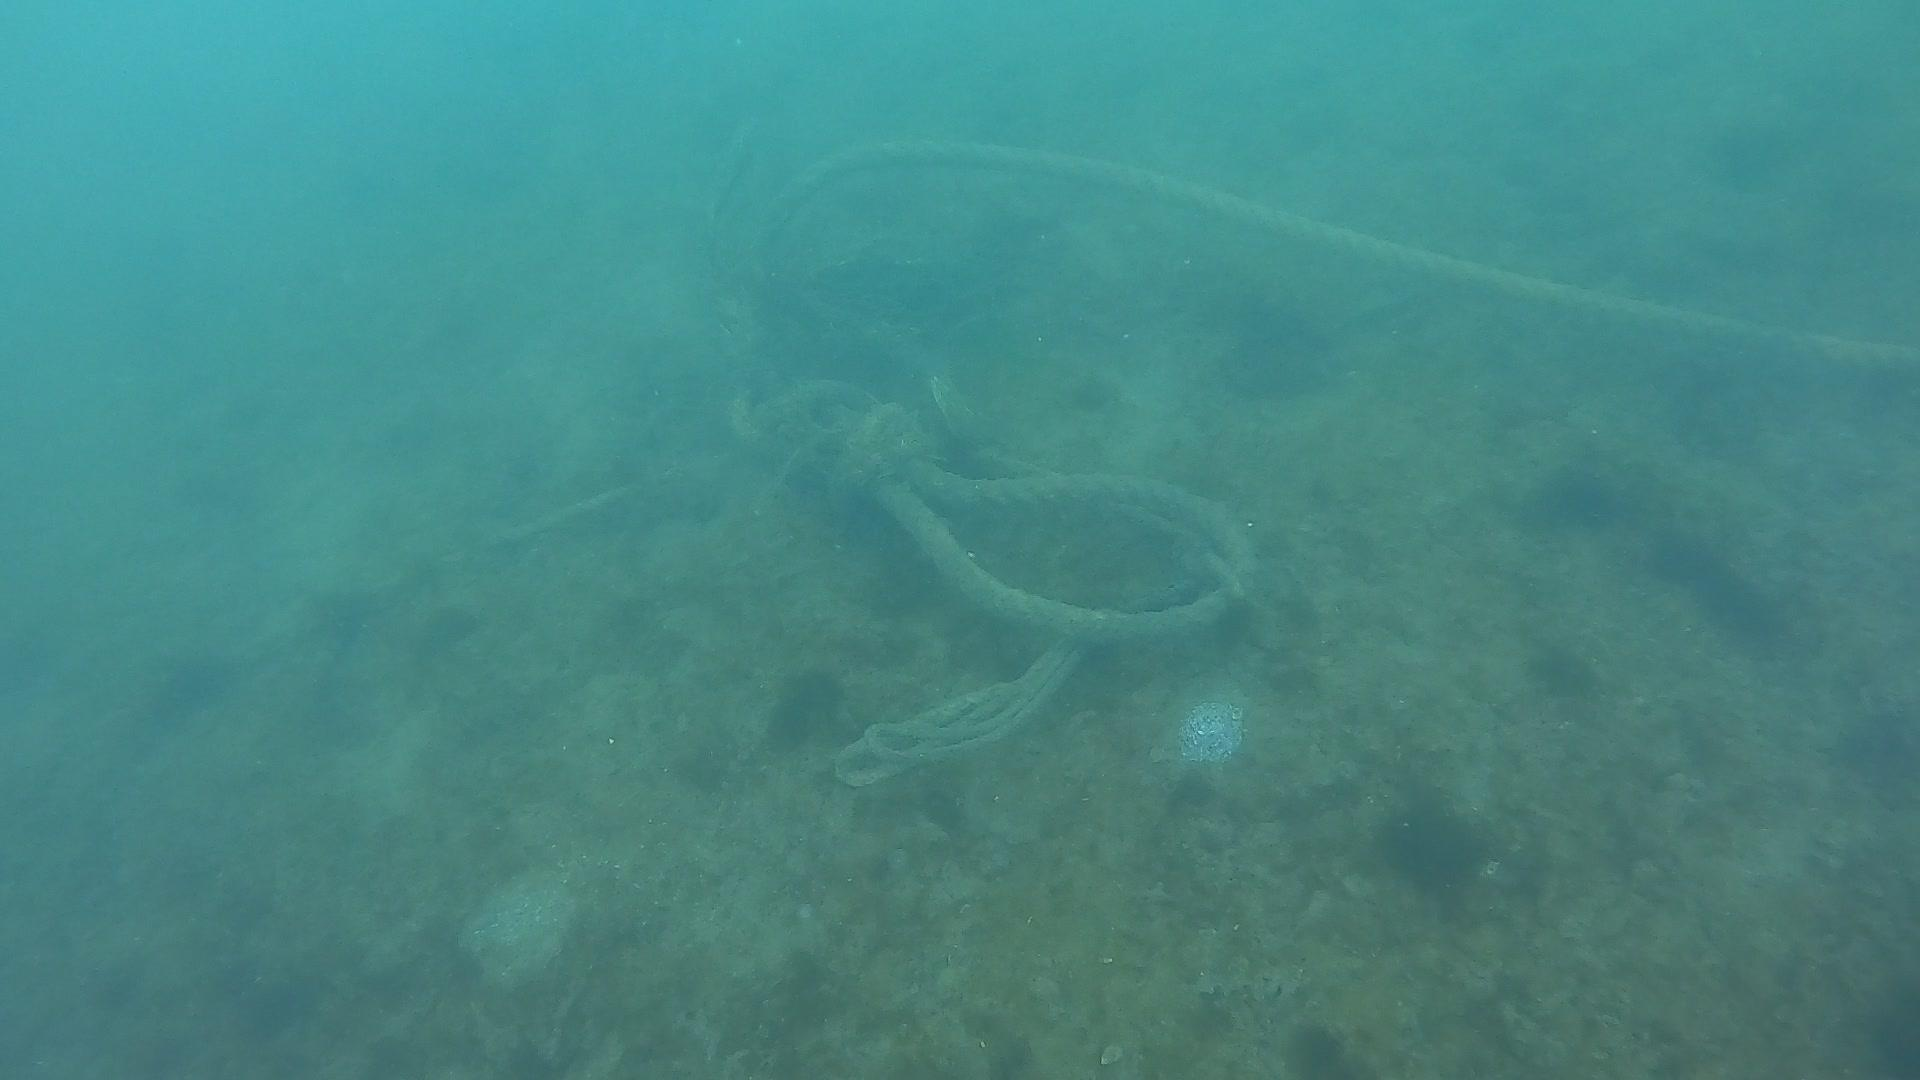bundle of ropes: (721, 127, 1920, 789)
